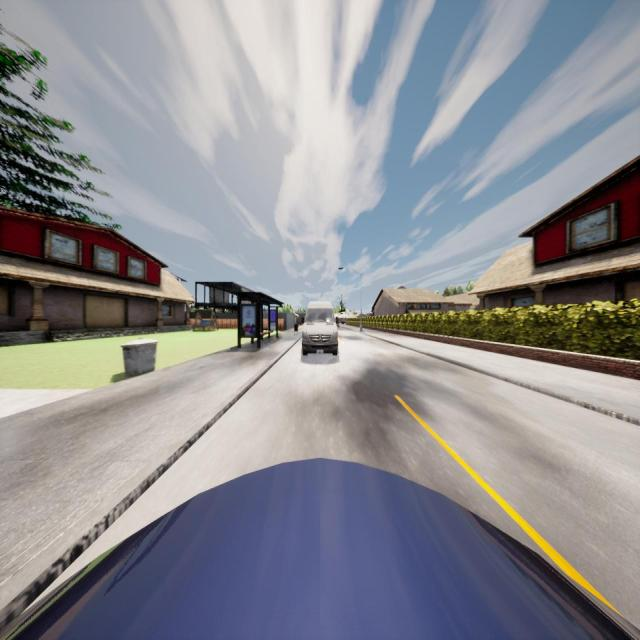Vehicle: (0, 455, 640, 640), (301, 301, 340, 356)
